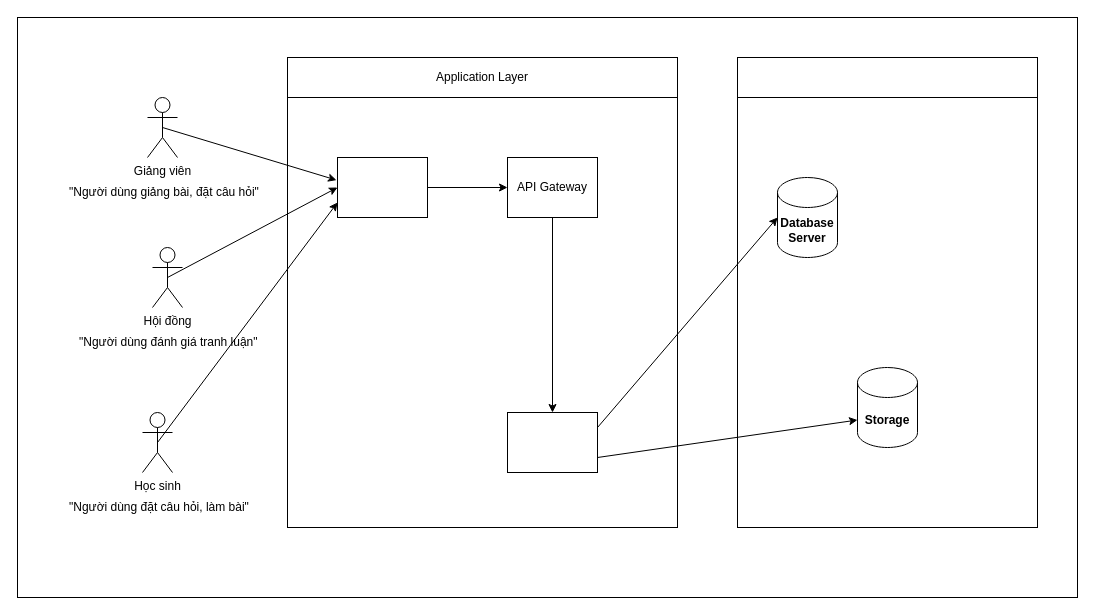
This 1095x615 diagram has some shape labels left out. Here are the shapes that lost their labels. From the top down, the centre of each, then its label:
the point at 887,77: Data Layer
the point at 382,187: Web Frontend
the point at 552,442: Backend Services
